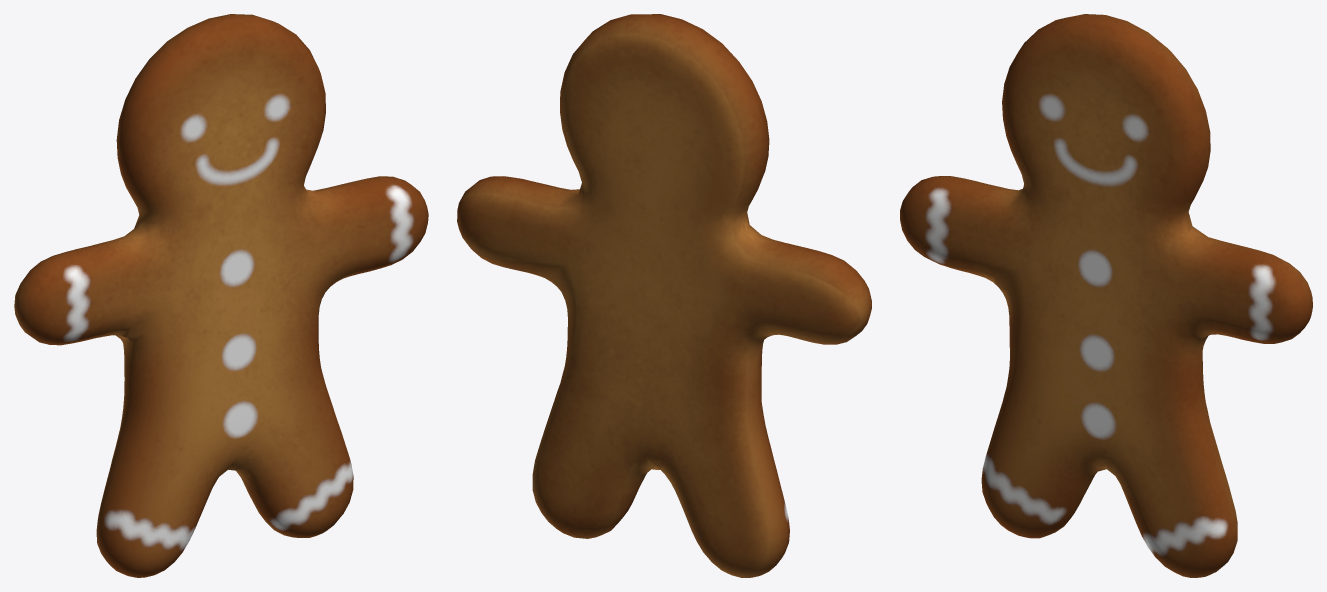
The model's file is JiangBin_male.fbx.
3 renders of one model, left to right at view 1: azimuth 30°, elevation 25°; view 2: azimuth 150°, elevation 25°; view 3: azimuth 330°, elevation 25°, orthographic.
Parts seen in each view (by area): view 1: JiangBin_male; view 2: JiangBin_male; view 3: JiangBin_male.
Boxes of the visible parts, x1,y1,x2,y2 form: JiangBin_male: (14,14,428,577); JiangBin_male: (457,14,871,577); JiangBin_male: (900,14,1312,577).
Bounding box in the file's own units: 438 × 553 × 50.18.
1 material, 1 textured.
